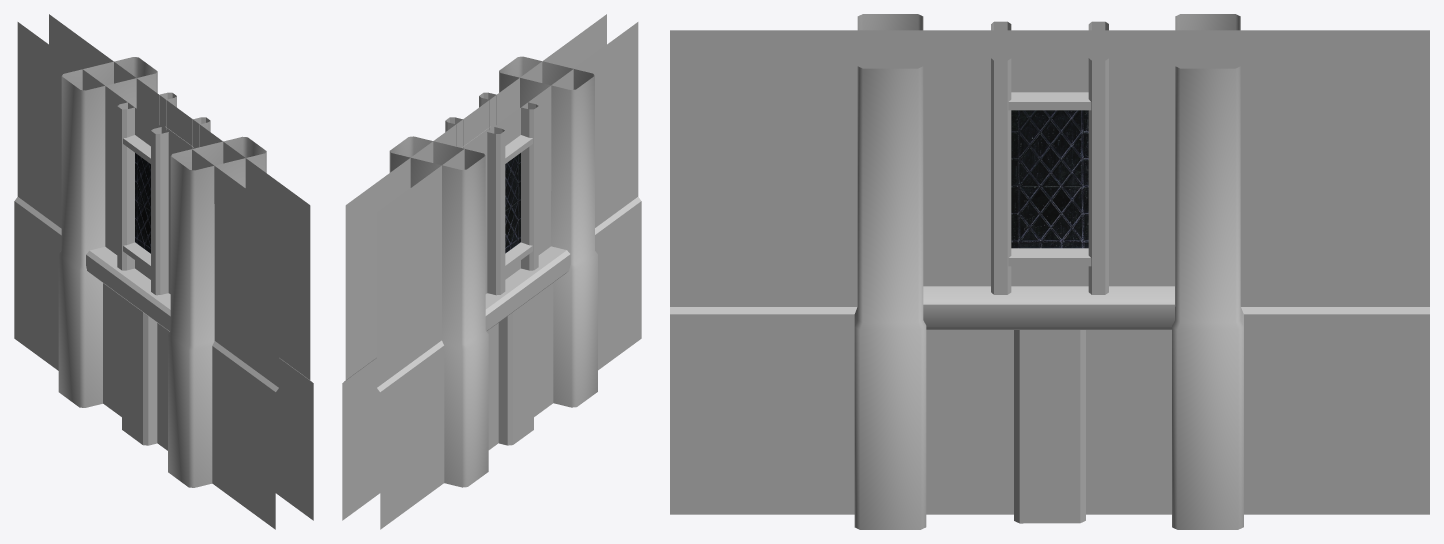
The model's file is House_01_Side_03.FBX.
3 views of the same model, side by side, from view 1: azimuth 30°, elevation 25°; view 2: azimuth 150°, elevation 25°; view 3: azimuth 270°, elevation 25° (orthographic). The views are drawn at different scales.
Parts seen in each view (by area): view 1: House_01_Side_03; view 2: House_01_Side_03; view 3: House_01_Side_03.
Boxes of the visible parts, x1,y1,x2,y2 form: House_01_Side_03: [14, 14, 313, 529]; House_01_Side_03: [342, 14, 641, 529]; House_01_Side_03: [670, 14, 1429, 529].
Bounding box in the file's own units: 34.36 × 128 × 192.
